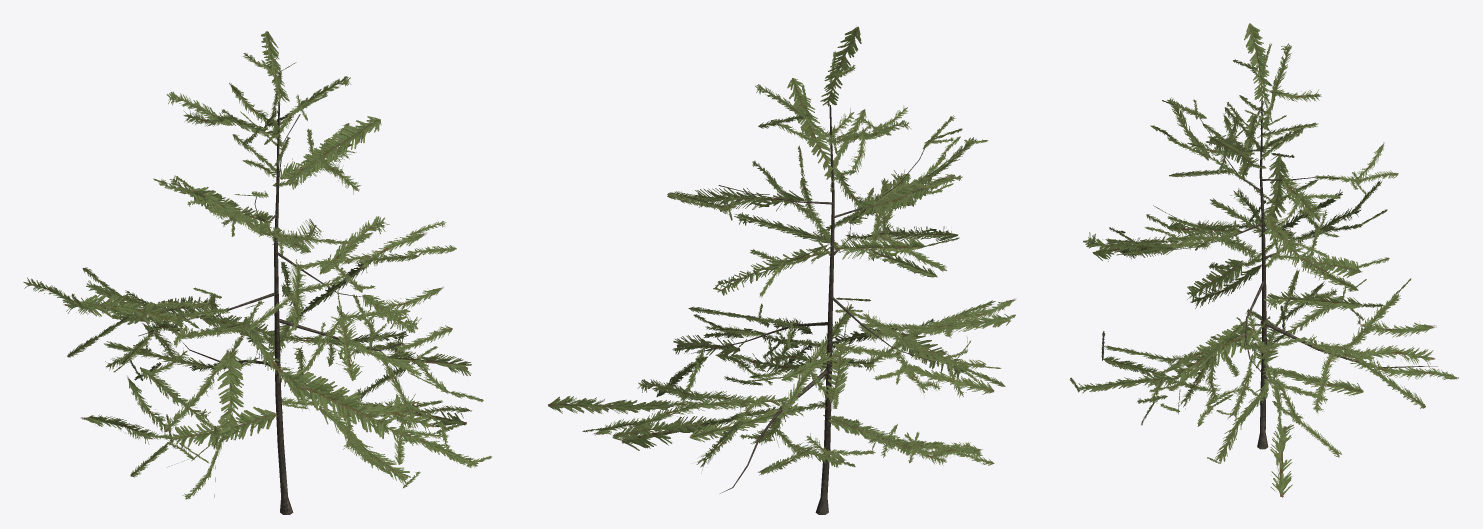
File: fir-sapling-c.glb
The picture shows the model from 3 angles, left to right: view 1: azimuth 30°, elevation 25°; view 2: azimuth 150°, elevation 25°; view 3: azimuth 270°, elevation 25°; orthographic projection. The views are drawn at different scales.
Visible parts, largest first — view 1: fir_sapling_c; view 2: fir_sapling_c; view 3: fir_sapling_c.
Boxes of the visible parts, x1=… form: fir_sapling_c: x1=23, y1=31, x2=492, y2=514; fir_sapling_c: x1=548, y1=26, x2=1015, y2=514; fir_sapling_c: x1=1069, y1=23, x2=1458, y2=497.
Size of the model in its own units: 0.6573 by 0.7551 by 0.6709.
2 materials, 2 textured.
